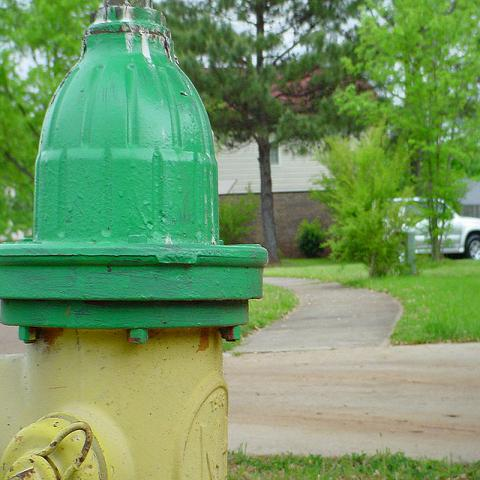car: (370, 196, 480, 262)
